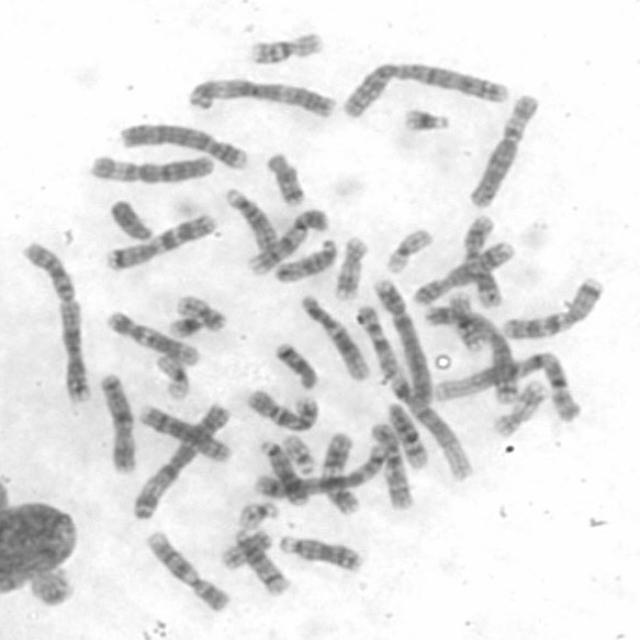A1: (351, 301, 476, 481), (435, 348, 583, 424)
A2: (16, 237, 94, 408), (340, 59, 513, 118)
A3: (130, 402, 230, 522), (183, 78, 336, 119)
B4: (372, 278, 435, 402), (118, 119, 252, 173)
B5: (424, 304, 519, 404), (254, 440, 390, 499)
C10: (370, 421, 416, 511), (246, 389, 322, 432)
C11: (458, 215, 505, 307), (320, 433, 364, 514)
C12: (299, 293, 371, 382), (105, 310, 202, 365)
C6: (468, 90, 542, 210), (86, 152, 220, 186)
C7: (105, 212, 218, 270), (501, 277, 606, 339)
C8: (412, 241, 516, 306), (134, 399, 233, 461)
C9: (143, 529, 234, 615), (246, 206, 333, 277)
D13: (276, 534, 366, 574), (259, 438, 310, 508)
D14: (230, 525, 293, 598), (388, 402, 432, 470)
D15: (225, 187, 280, 253), (270, 236, 340, 284)
E16: (249, 31, 324, 67), (445, 289, 485, 352)
E17: (494, 378, 548, 437), (332, 234, 368, 300)
E18: (264, 151, 308, 207), (274, 341, 320, 391)
F19: (382, 225, 434, 275), (153, 352, 193, 404)
F20: (220, 529, 274, 572), (174, 292, 228, 332)
G21: (402, 106, 453, 134), (169, 313, 205, 340)
G22: (280, 430, 317, 476), (237, 499, 281, 529)
X: (98, 372, 139, 476)
Y: (109, 197, 154, 242)
